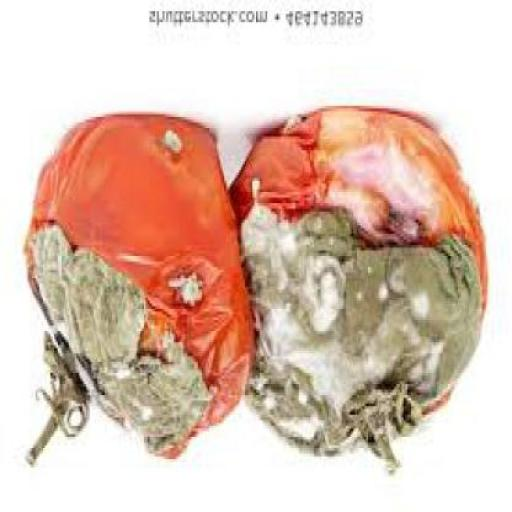biodegradable: (222, 109, 486, 478), (20, 117, 254, 476)
